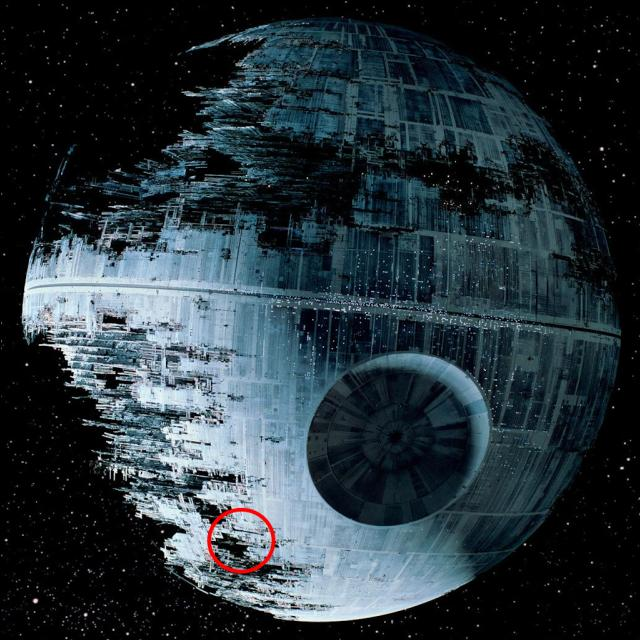Death-star: (21, 19, 617, 621)
